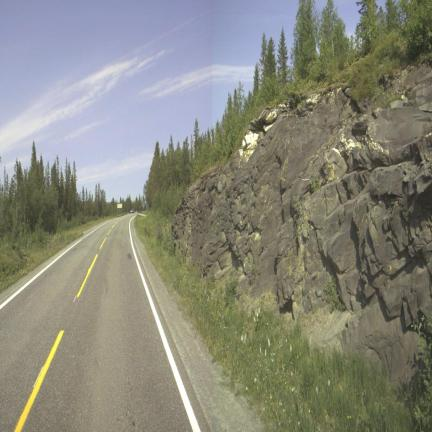Road: (0, 216, 207, 430)
